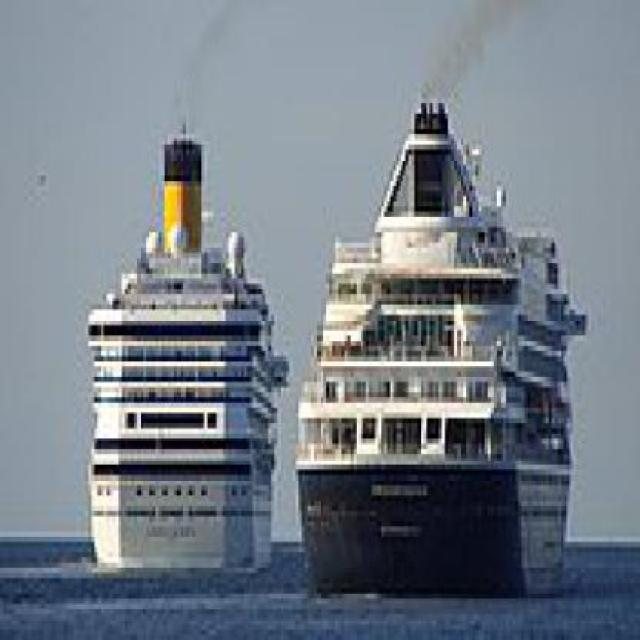cruise: (281, 79, 604, 616), (68, 94, 297, 590)
